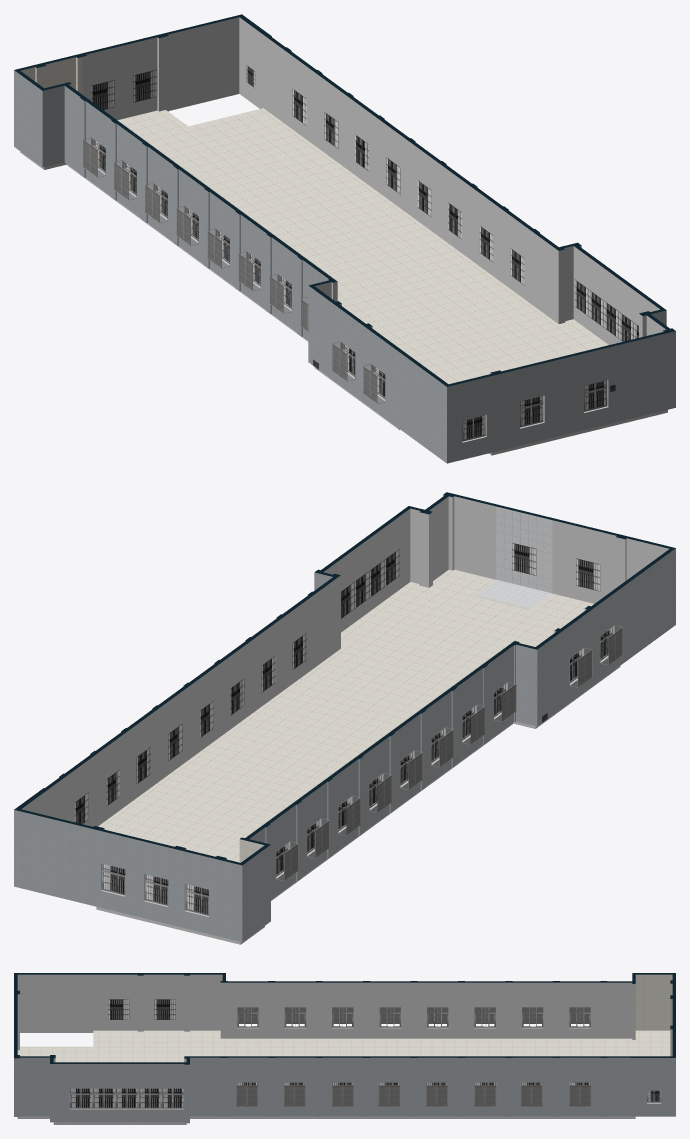
The model's file is hkjls_hkjls_f03_out_T005.obj.
3 views of the same model, one above another, from view 1: azimuth 30°, elevation 25°; view 2: azimuth 150°, elevation 25°; view 3: azimuth 270°, elevation 25° (orthographic). The views are drawn at different scales.
Parts seen in each view (by area): view 1: hkjls_hkjls_f03_out_003_H005, hkjls_hkjls_f03_out_006_H005, hkjls_hkjls_f03_out_001_H005, hkjls_hkjls_f03_out_ch_001_T015, hkjls_hkjls_f03_out_007_H005, hkjls_hkjls_f03_out_ch_003_T015, hkjls_hkjls_f03_out_ch_002_T015, hkjls_hkjls_f03_out_008_H005; view 2: hkjls_hkjls_f03_out_003_H005, hkjls_hkjls_f03_out_006_H005, hkjls_hkjls_f03_out_001_H005, hkjls_hkjls_f03_out_ch_001_T015, hkjls_hkjls_f03_out_007_H005, hkjls_hkjls_f03_out_002_H005, hkjls_hkjls_f03_out_ch_003_T015, hkjls_hkjls_f03_out_ch_002_T015, hkjls_hkjls_f03_out_008_H005; view 3: hkjls_hkjls_f03_out_001_H005, hkjls_hkjls_f03_out_006_H005, hkjls_hkjls_f03_out_003_H005, hkjls_hkjls_f03_out_ch_003_T015, hkjls_hkjls_f03_out_ch_001_T015, hkjls_hkjls_f03_out_007_H005, hkjls_hkjls_f03_out_ch_002_T015, hkjls_hkjls_f03_out_008_H005.
Boxes of the visible parts, bbox=[...] form: hkjls_hkjls_f03_out_003_H005: bbox=[20, 57, 608, 384]; hkjls_hkjls_f03_out_006_H005: bbox=[14, 36, 675, 463]; hkjls_hkjls_f03_out_001_H005: bbox=[20, 17, 667, 455]; hkjls_hkjls_f03_out_ch_001_T015: bbox=[90, 65, 638, 439]; hkjls_hkjls_f03_out_007_H005: bbox=[14, 14, 675, 386]; hkjls_hkjls_f03_out_ch_003_T015: bbox=[83, 140, 377, 402]; hkjls_hkjls_f03_out_ch_002_T015: bbox=[93, 140, 607, 441]; hkjls_hkjls_f03_out_008_H005: bbox=[83, 137, 385, 403]; hkjls_hkjls_f03_out_003_H005: bbox=[98, 569, 593, 862]; hkjls_hkjls_f03_out_006_H005: bbox=[14, 495, 675, 942]; hkjls_hkjls_f03_out_001_H005: bbox=[21, 496, 669, 944]; hkjls_hkjls_f03_out_ch_001_T015: bbox=[74, 543, 610, 914]; hkjls_hkjls_f03_out_007_H005: bbox=[14, 492, 675, 865]; hkjls_hkjls_f03_out_002_H005: bbox=[475, 506, 552, 608]; hkjls_hkjls_f03_out_ch_003_T015: bbox=[284, 628, 622, 880]; hkjls_hkjls_f03_out_ch_002_T015: bbox=[102, 627, 612, 915]; hkjls_hkjls_f03_out_008_H005: bbox=[276, 625, 622, 881]; hkjls_hkjls_f03_out_001_H005: bbox=[17, 974, 672, 1124]; hkjls_hkjls_f03_out_006_H005: bbox=[14, 1057, 675, 1123]; hkjls_hkjls_f03_out_003_H005: bbox=[17, 974, 672, 1062]; hkjls_hkjls_f03_out_ch_003_T015: bbox=[236, 1007, 590, 1106]; hkjls_hkjls_f03_out_ch_001_T015: bbox=[71, 999, 660, 1107]; hkjls_hkjls_f03_out_007_H005: bbox=[14, 973, 675, 1064]; hkjls_hkjls_f03_out_ch_002_T015: bbox=[69, 1007, 661, 1108]; hkjls_hkjls_f03_out_008_H005: bbox=[236, 1024, 591, 1106].
Bounding box in the file's own units: 1561 × 480 × 4605.
11 materials, 11 textured.
